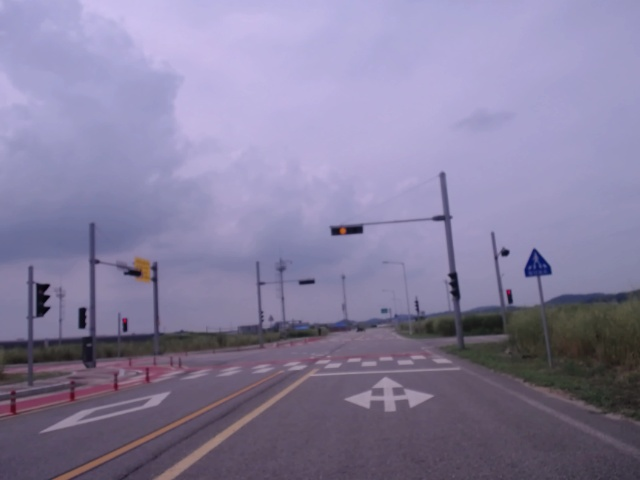orange_4: (330, 224, 367, 236)
